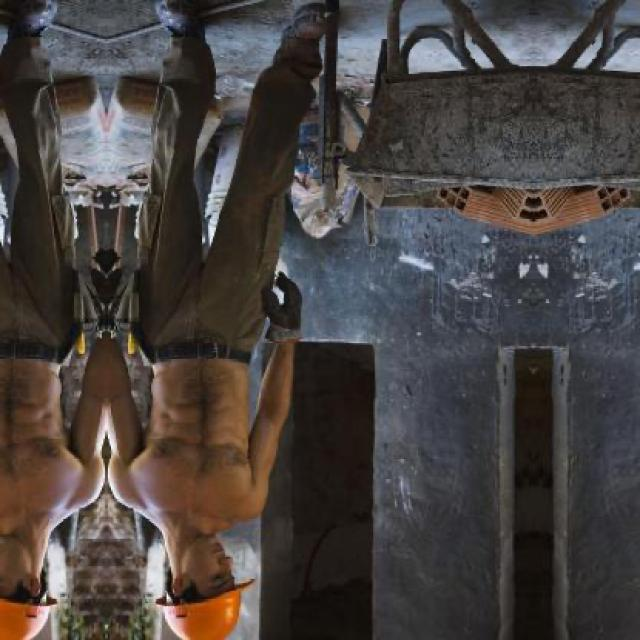con casco: (143, 515, 290, 635)
